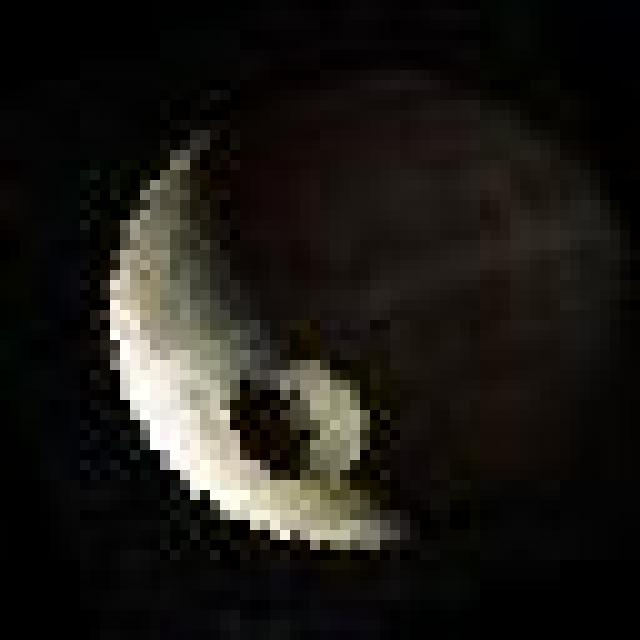Death Star: (90, 41, 620, 560)
